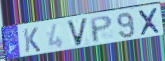4: (47, 22, 65, 50)
9: (115, 12, 136, 40)
K: (22, 26, 42, 54)
P: (89, 14, 114, 44)
V: (66, 16, 90, 48)
X: (137, 6, 162, 37)
